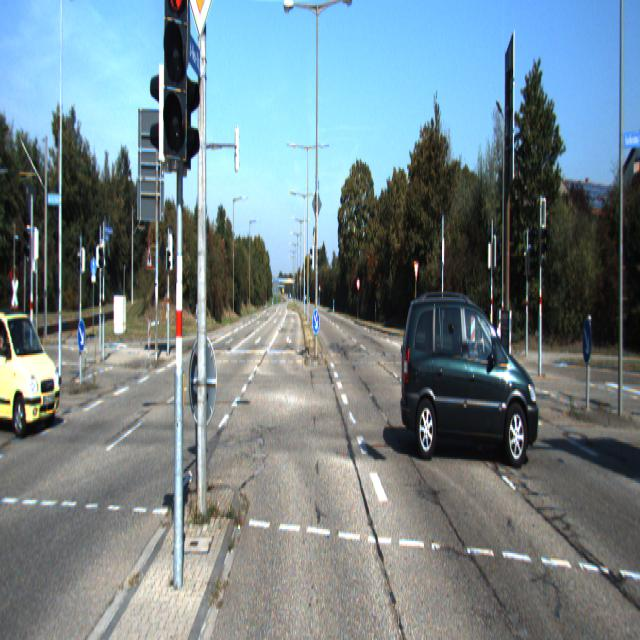Car: (397, 279, 541, 467), (0, 305, 62, 431)
